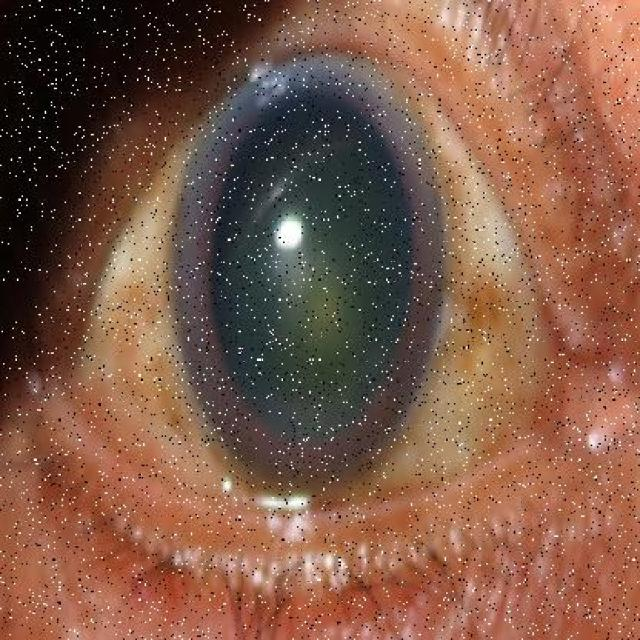Cataract: (155, 36, 449, 568)
